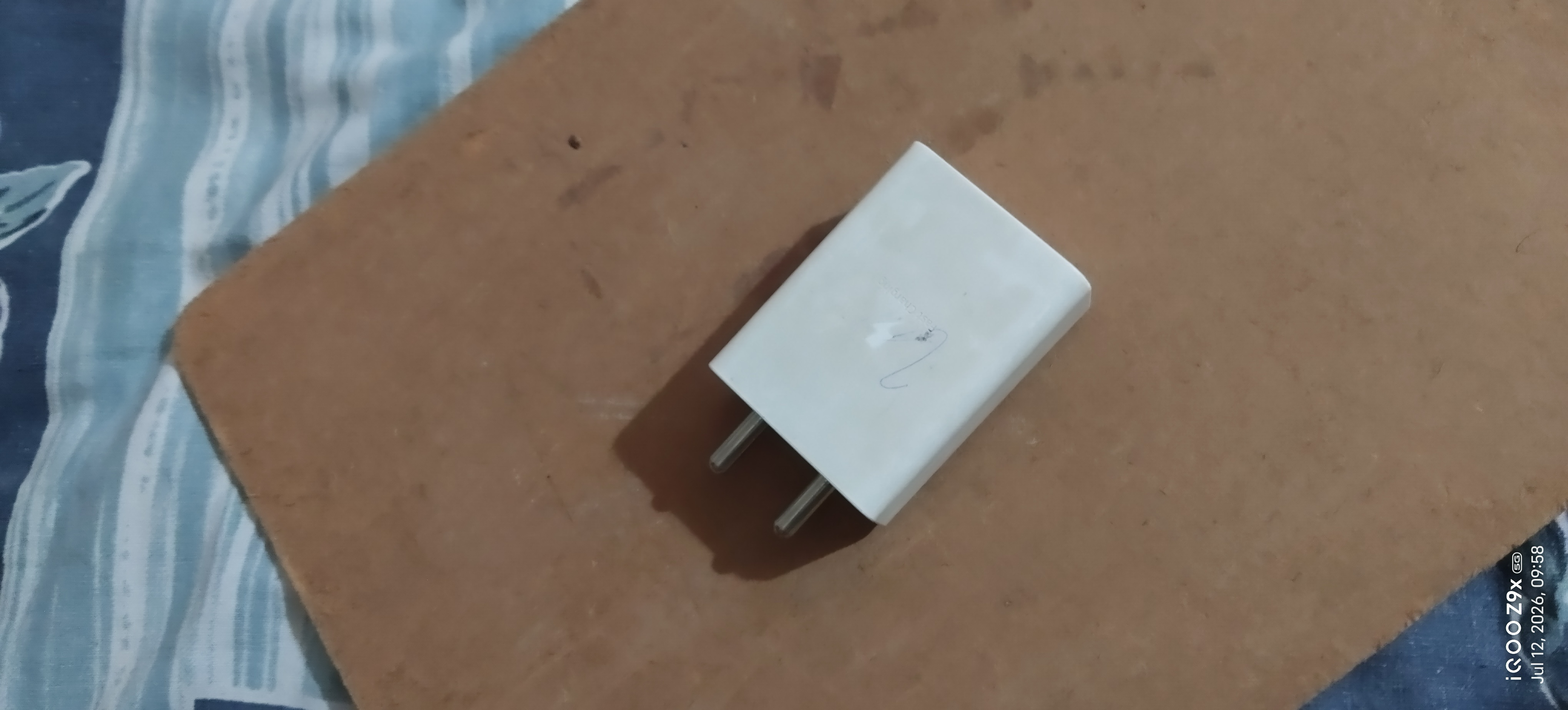charger: (647, 114, 1146, 580)
